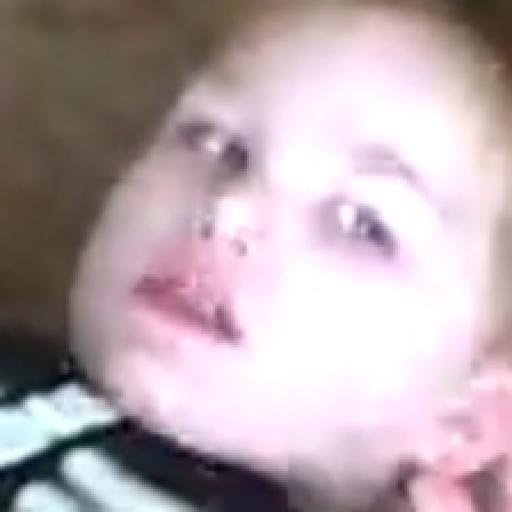Autism: (34, 1, 512, 512)
